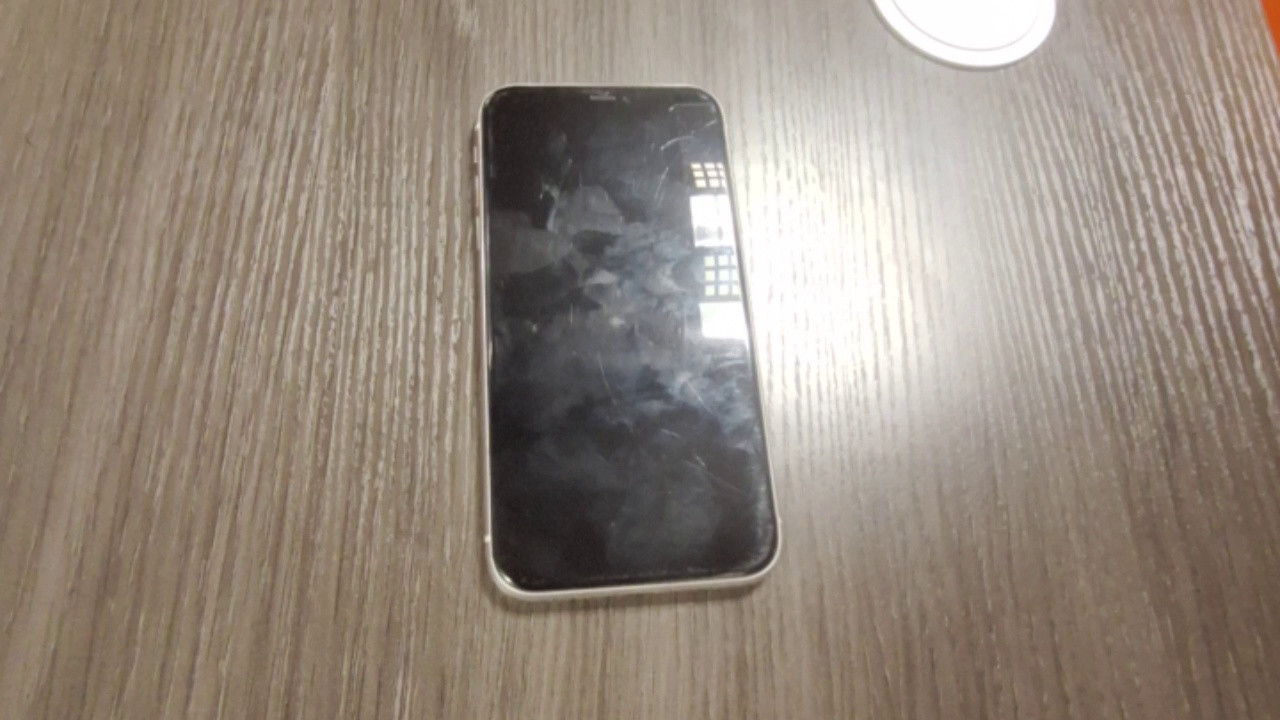celular: (475, 82, 780, 604)
